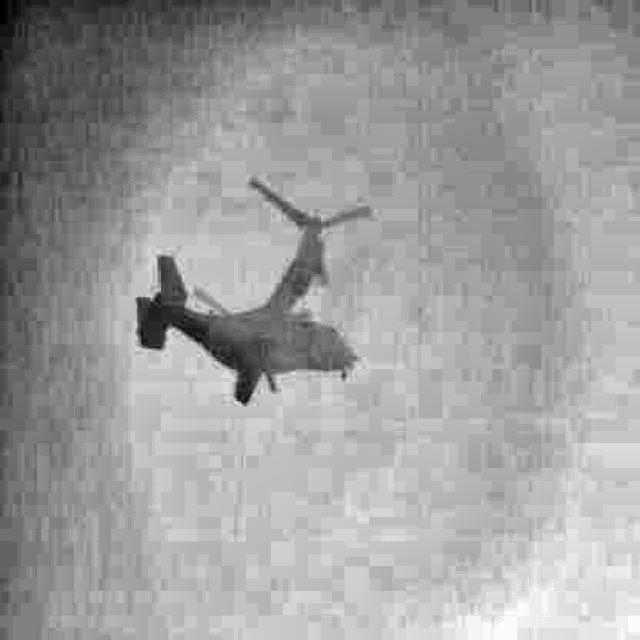V22: (134, 176, 372, 409)
